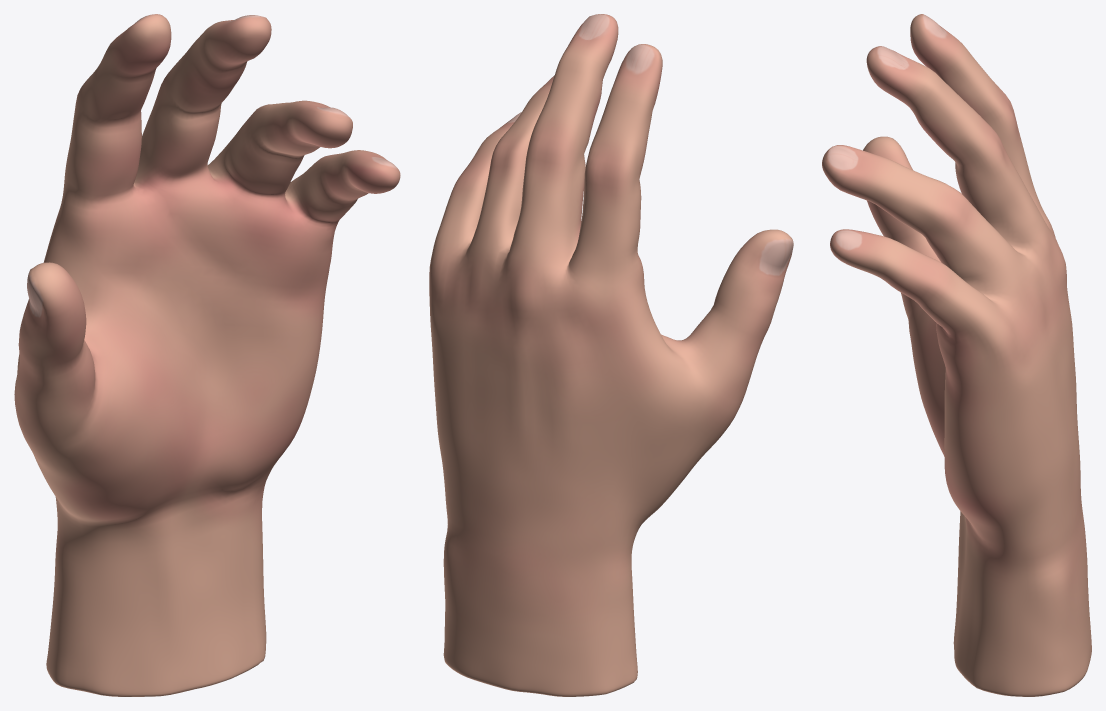
The model's file is leftHand.glb.
The picture shows the model from 3 angles, left to right: view 1: azimuth 30°, elevation 25°; view 2: azimuth 150°, elevation 25°; view 3: azimuth 270°, elevation 25°; orthographic projection. The views are drawn at different scales.
Parts seen in each view (by area): view 1: hand_LP:Group3794; view 2: hand_LP:Group3794; view 3: hand_LP:Group3794.
Boxes of the visible parts, box(x1,y1,x2,y2) form: hand_LP:Group3794: box(14, 14, 400, 696); hand_LP:Group3794: box(429, 14, 793, 696); hand_LP:Group3794: box(822, 14, 1091, 696).
Bounding box in the file's own units: 0.2677 × 0.4992 × 0.1994.
1 material, 1 textured.
